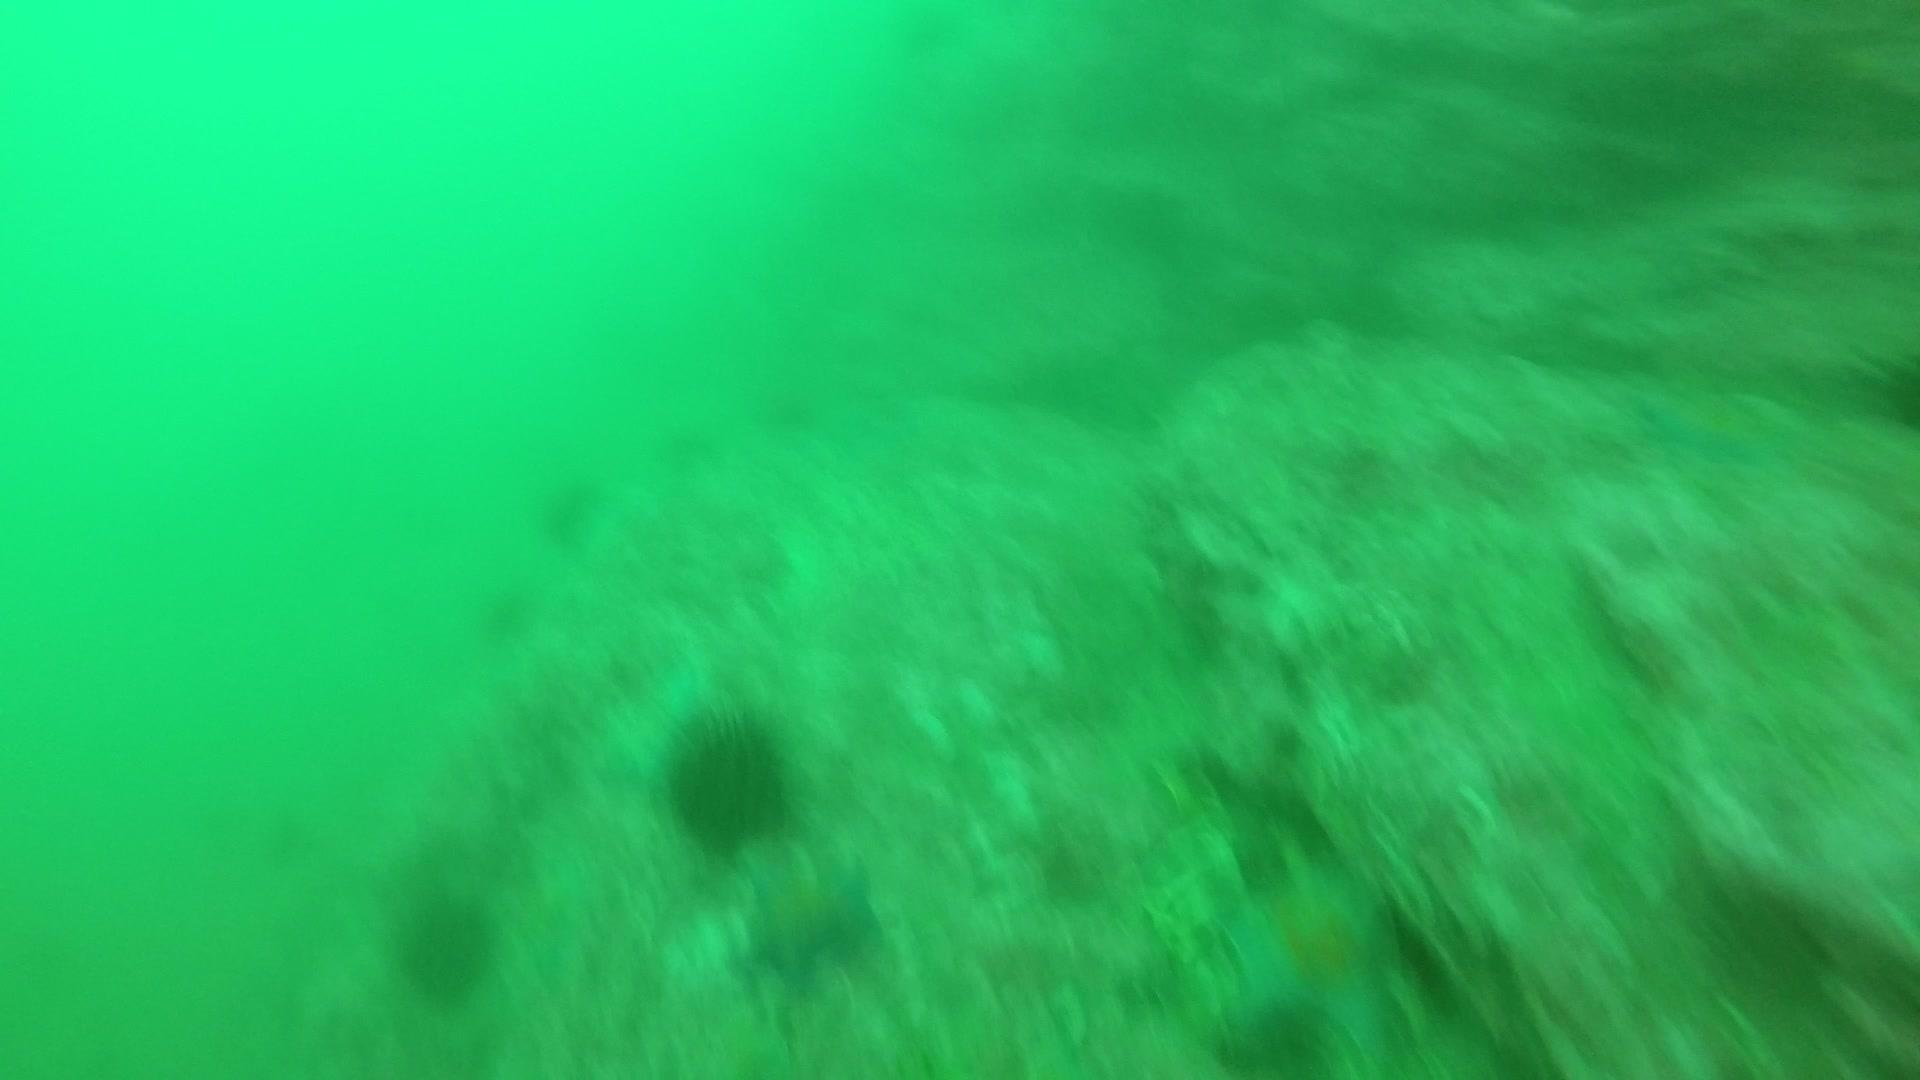echinus: (655, 703, 802, 856), (384, 882, 505, 1007), (531, 468, 607, 546), (1858, 343, 1920, 436)
starfish: (1203, 844, 1416, 1072), (735, 844, 886, 984), (1640, 381, 1797, 472)
